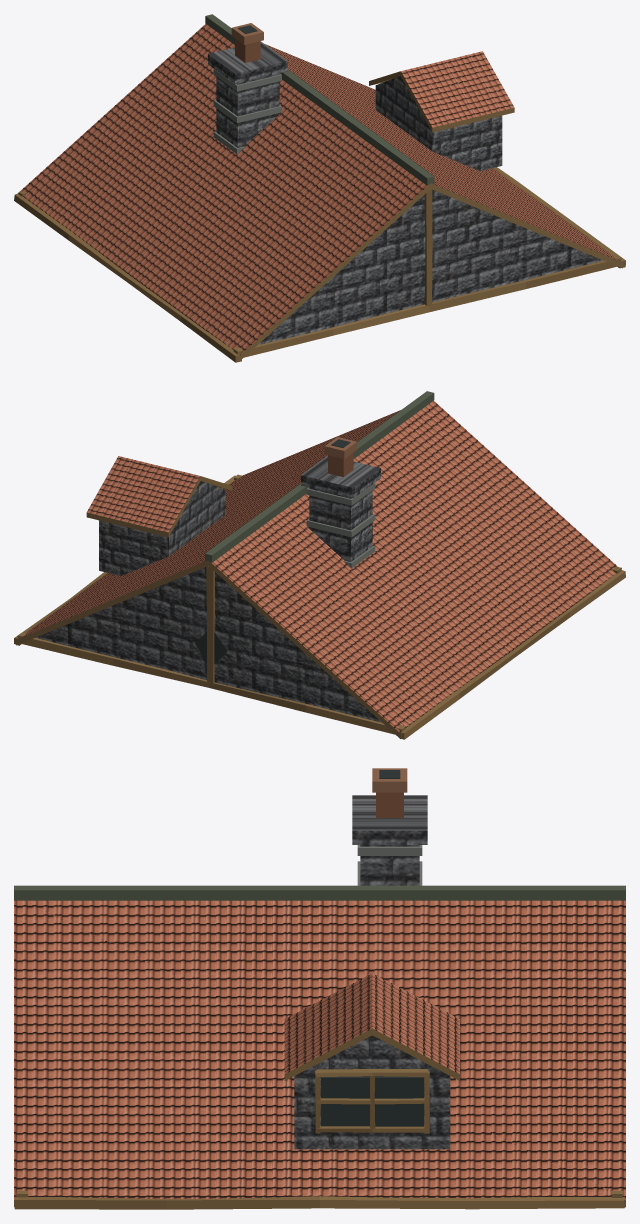
File: town_Roof_07_gable.glb
3 renders of one model, top to bottom at view 1: azimuth 30°, elevation 25°; view 2: azimuth 150°, elevation 25°; view 3: azimuth 270°, elevation 25°, orthographic. The views are drawn at different scales.
Parts seen in each view (by area): view 1: town_Roof_07_gable.005; view 2: town_Roof_07_gable.005; view 3: town_Roof_07_gable.005.
Boxes of the visible parts, x1,y1,x2,y2 form: town_Roof_07_gable.005: [14, 14, 625, 362]; town_Roof_07_gable.005: [14, 391, 625, 739]; town_Roof_07_gable.005: [14, 768, 625, 1209].
Bounding box in the file's own units: 7.13 × 3.44 × 7.
3 materials, 2 textured.
